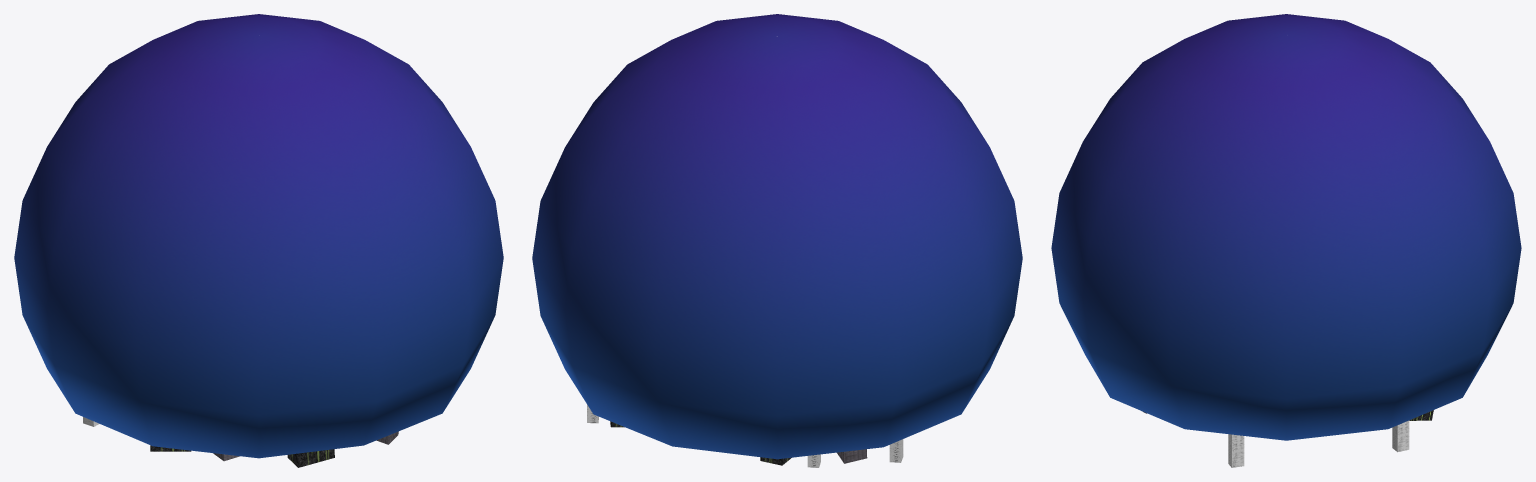
Rendered from skysphere.fbx.
3 views of the same model, side by side, from view 1: azimuth 30°, elevation 25°; view 2: azimuth 150°, elevation 25°; view 3: azimuth 270°, elevation 25° (orthographic). The views are drawn at different scales.
Parts seen in each view (by area): view 1: Skysphere; view 2: Skysphere; view 3: Skysphere.
Part boxes in pixels (<box>): Skysphere: <box>14,14,503,467</box>; Skysphere: <box>532,14,1022,467</box>; Skysphere: <box>1051,14,1521,467</box>.
Size of the model in its own units: 120000 by 100328 by 120000.
